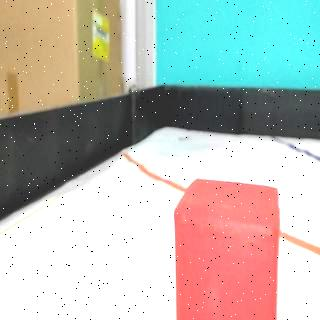redbox: (172, 178, 280, 320)
